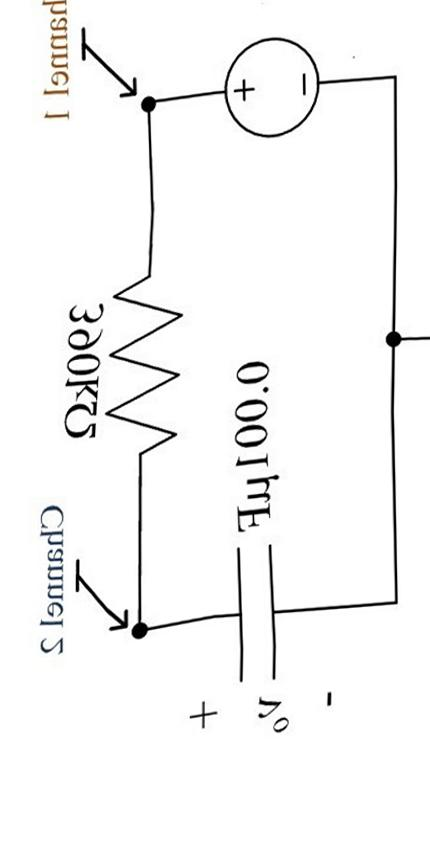Battery: (195, 18, 339, 160)
